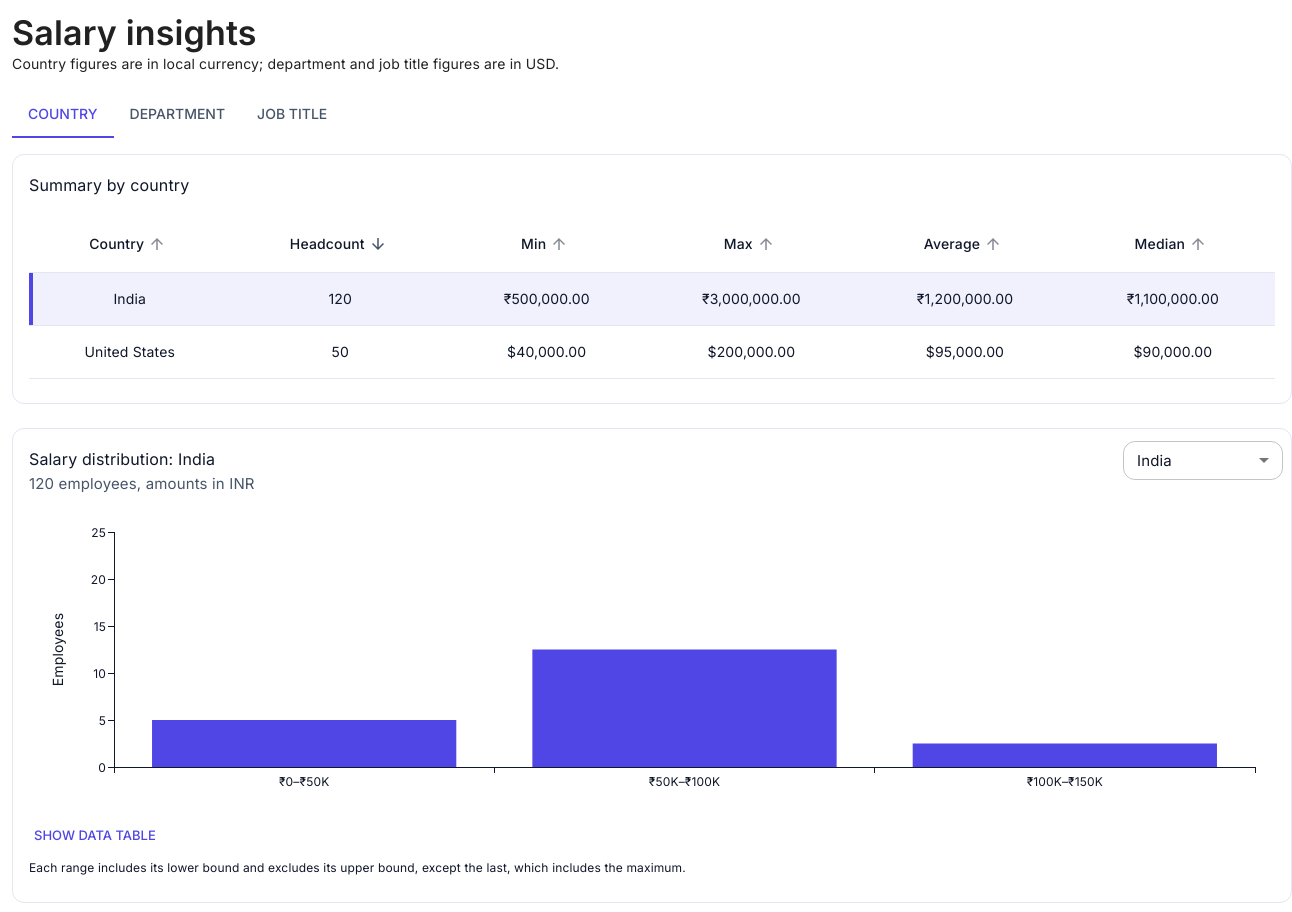
Scenario: InsightsPage › clicking a different row in the summary table updates the chart
Expected: the picture named "india" is shown, top-left (29, 512), bottom-right (1275, 812)
Click the text "United States": point(130, 352) top-left (29, 326), bottom-right (230, 379)
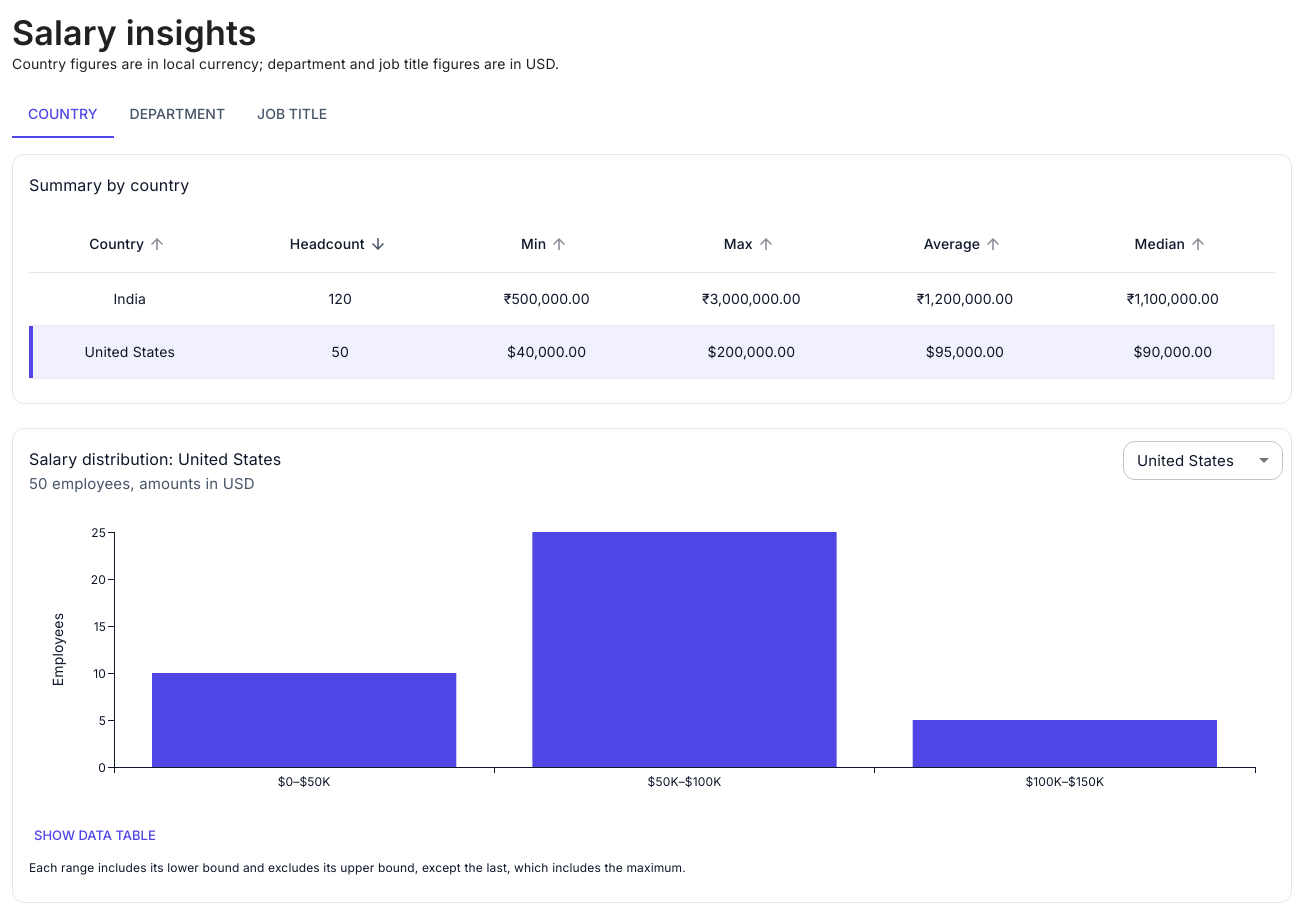
Now the picture named "united states" is shown, box top-left (29, 512), bottom-right (1275, 812)
